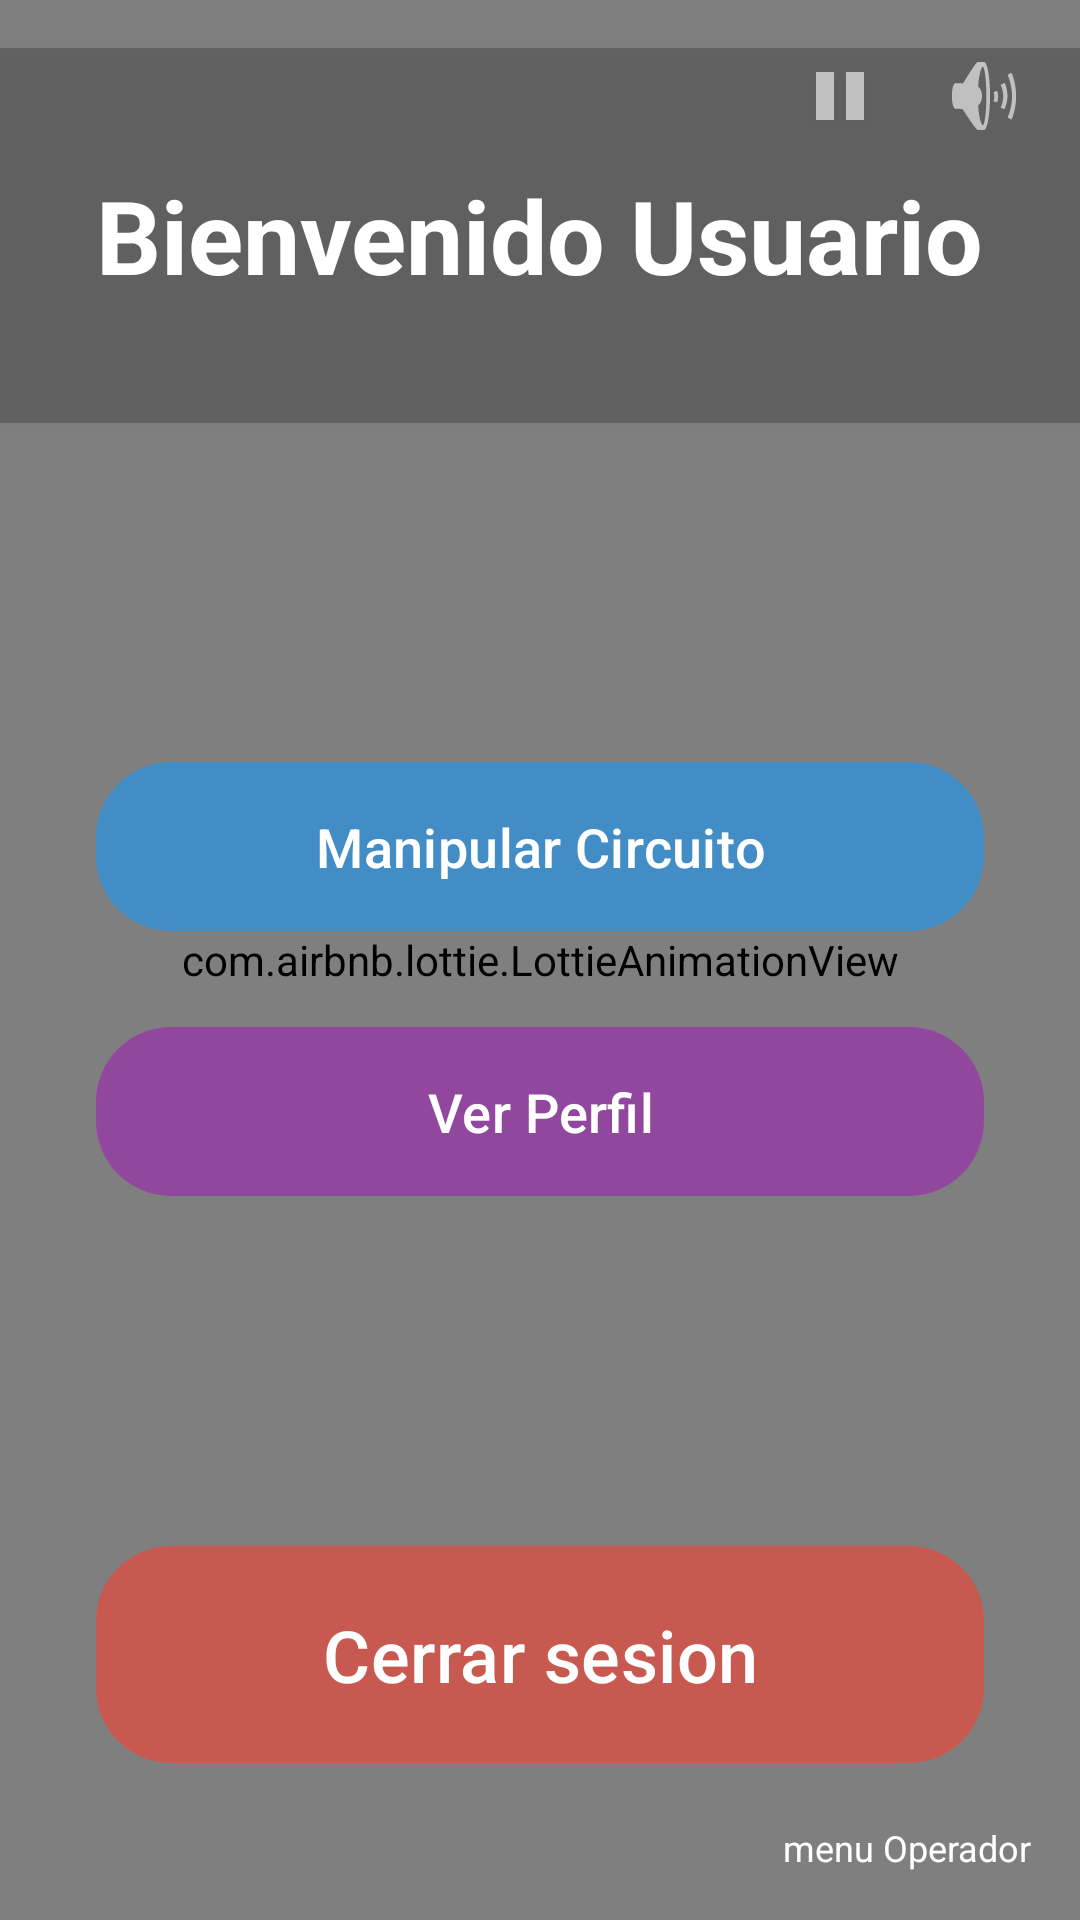

Icons on this 1080 x 1920 Android screen, each with the point to tap as (x,y):
pause: (840,96)
